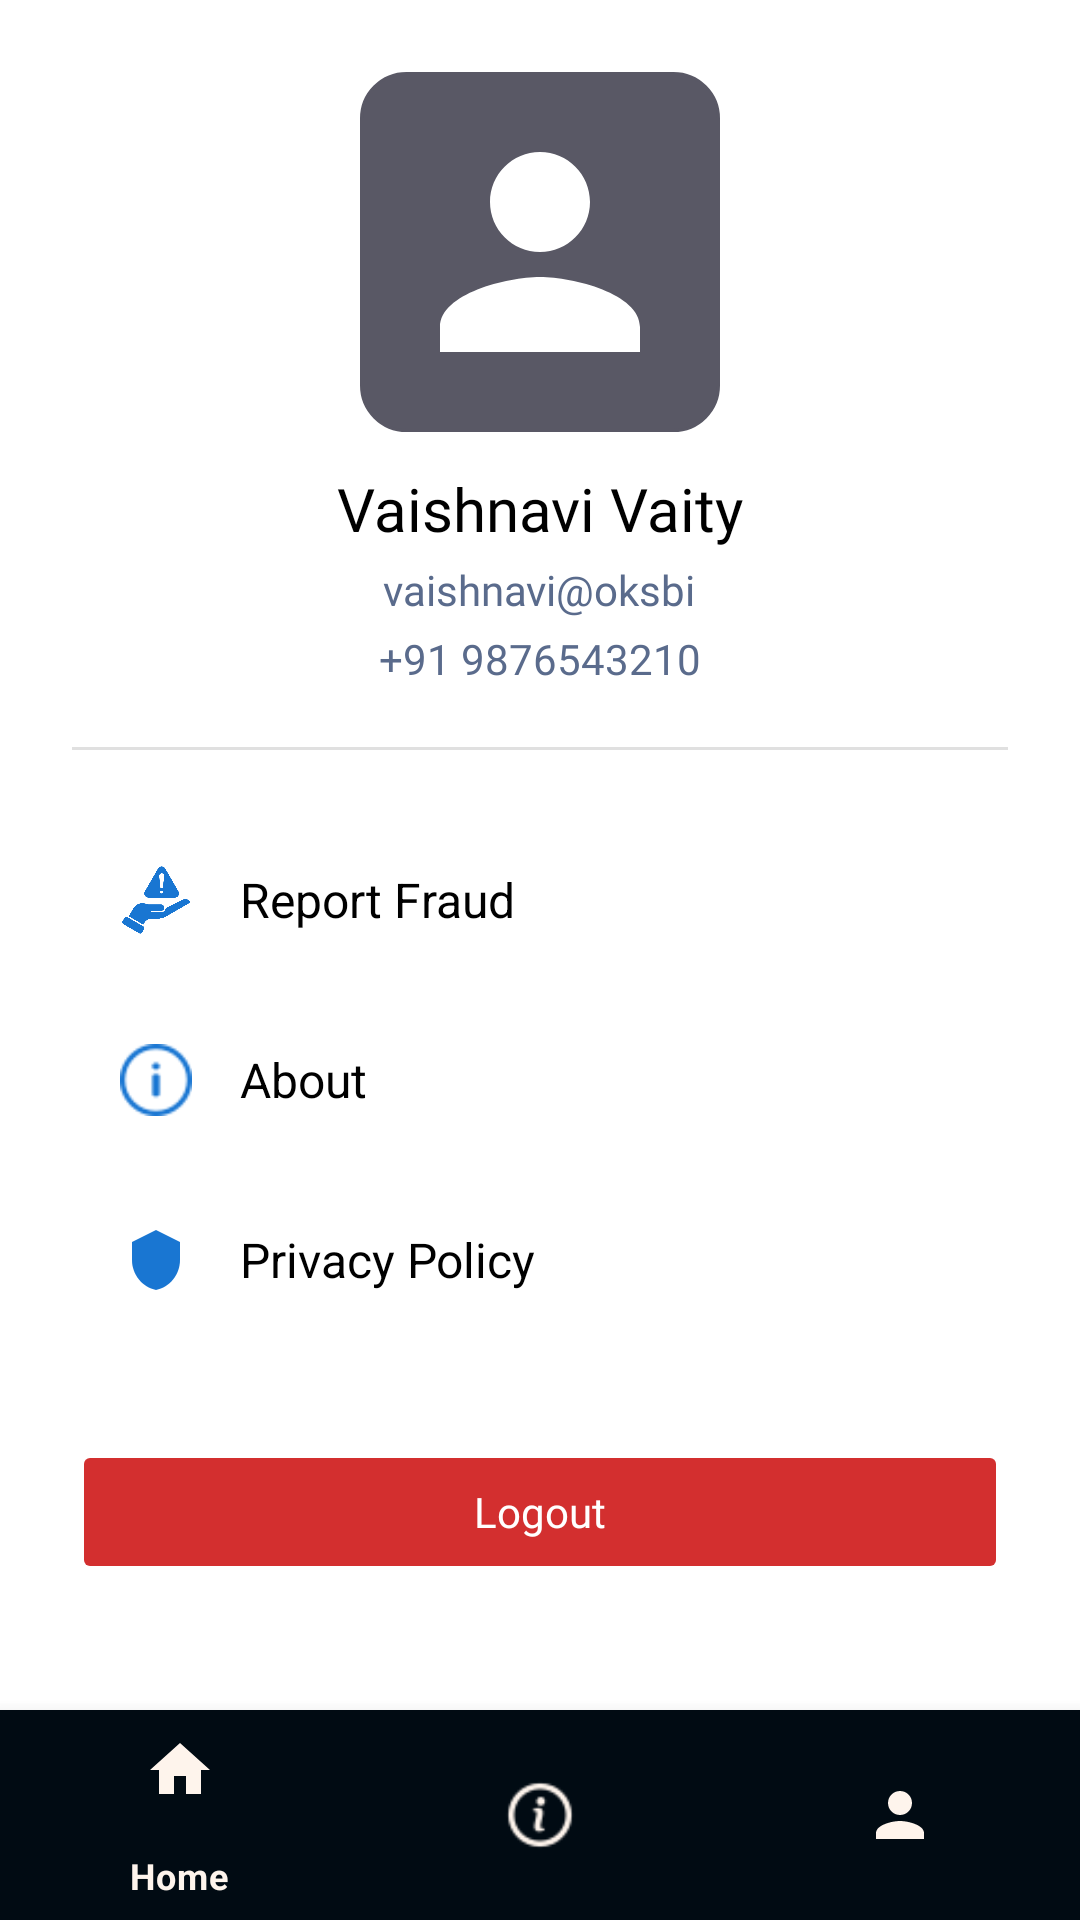

Named icons in this screenshot (1080px×1920px) and their bounding boxes, box=[x1, y1, x2, y2]:
info: box=[120, 1044, 192, 1116]
Profile Image: box=[360, 72, 720, 432]
